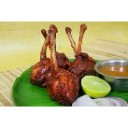chicken_lollipop: (48, 25, 80, 106), (65, 20, 96, 75), (28, 29, 54, 86)
